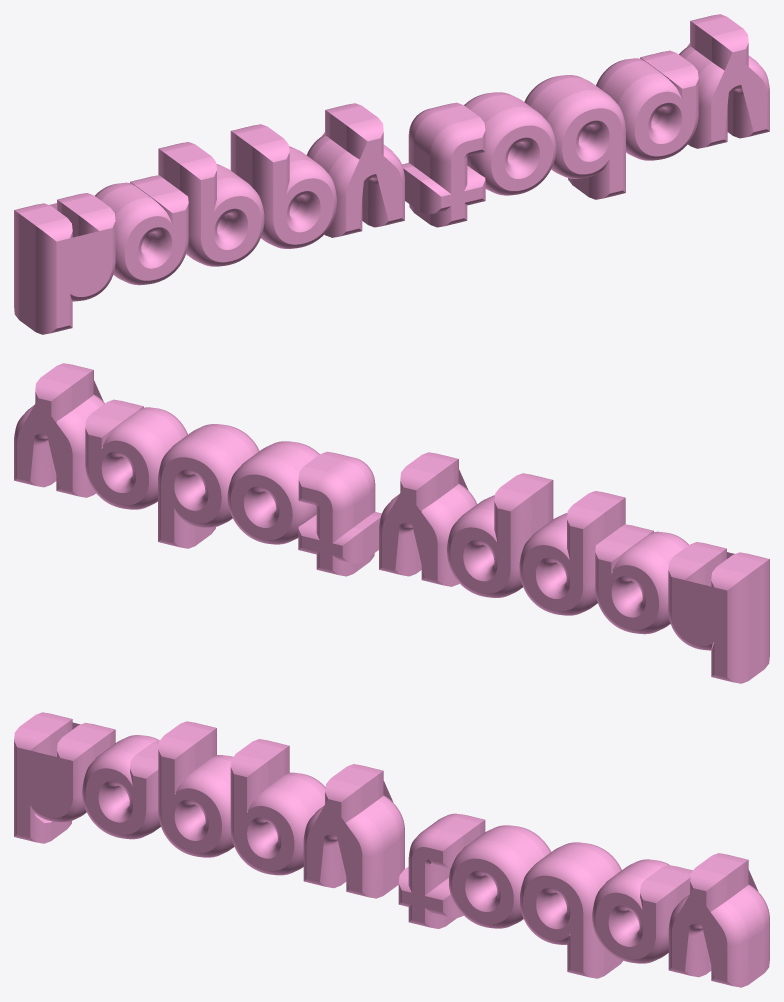
File: happy today text.obj
3 renders of one model, top to bottom at view 1: azimuth 30°, elevation 25°; view 2: azimuth 150°, elevation 25°; view 3: azimuth 330°, elevation 25°, orthographic.
Parts seen in each view (by area): view 1: h, y, p_1, d, y_1, p, t, a_1, a, o; view 2: h, y, p_1, d, y_1, p, t, a_1, a, o; view 3: y_1, y, p_1, h, d, p, a_1, o, a, t.
Part boxes in pixels (<box>): h: <box>14,193,115,334</box>; y: <box>307,103,404,237</box>; p_1: <box>230,124,336,248</box>; d: <box>524,75,625,199</box>; y_1: <box>679,14,769,148</box>; p: <box>158,142,264,266</box>; t: <box>402,102,485,227</box>; a_1: <box>596,50,698,160</box>; a: <box>95,175,188,285</box>; o: <box>464,92,556,195</box>; h: <box>668,542,769,683</box>; y: <box>379,452,476,586</box>; p_1: <box>447,473,553,597</box>; d: <box>158,424,259,548</box>; y_1: <box>14,363,104,497</box>; p: <box>519,491,625,615</box>; t: <box>298,451,381,576</box>; a_1: <box>85,399,187,509</box>; a: <box>595,524,688,634</box>; o: <box>227,441,319,544</box>; y_1: <box>668,853,769,987</box>; y: <box>303,764,404,898</box>; p_1: <box>230,739,325,875</box>; h: <box>14,712,115,843</box>; d: <box>520,842,622,978</box>; p: <box>158,721,234,857</box>; a_1: <box>592,859,692,963</box>; o: <box>449,825,550,928</box>; a: <box>82,735,160,839</box>; t: <box>398,813,485,928</box>.
Size of the model in its own units: 154 by 26.74 by 14.39.
